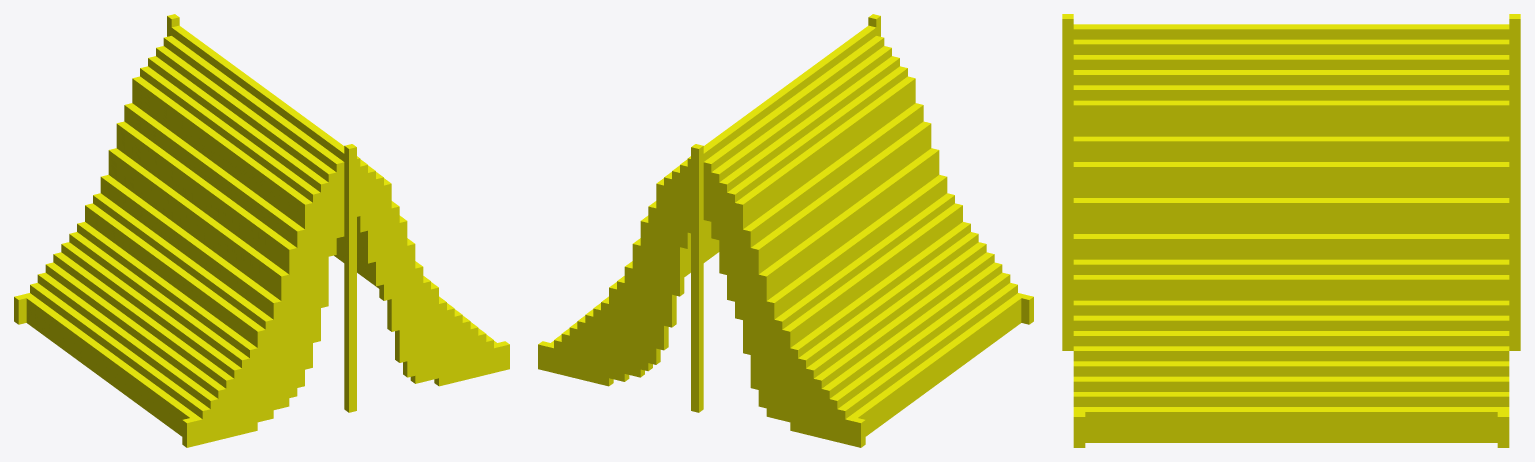
The model's file is voxel-rangers-tent.glb.
The picture shows the model from 3 angles, left to right: view 1: azimuth 30°, elevation 25°; view 2: azimuth 150°, elevation 25°; view 3: azimuth 270°, elevation 25°; orthographic projection. The views are drawn at different scales.
Parts seen in each view (by area): view 1: ObjObject.005; view 2: ObjObject.005; view 3: ObjObject.005.
Boxes of the visible parts, x1=… form: ObjObject.005: x1=14, y1=14, x2=509, y2=447; ObjObject.005: x1=538, y1=14, x2=1033, y2=447; ObjObject.005: x1=1062, y1=14, x2=1520, y2=447.
Bounding box in the file's own units: 4.1 × 3.2 × 4.
